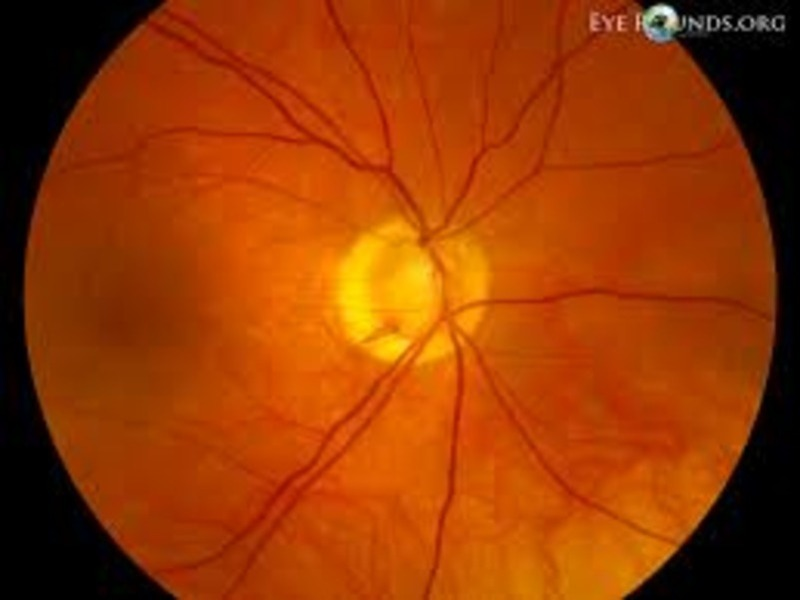Optic Cup: (336, 216, 452, 361)
Optic Disc: (370, 236, 488, 347)
